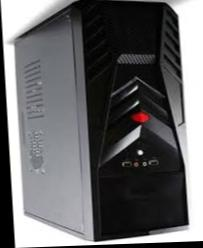pc: (4, 0, 193, 246)
